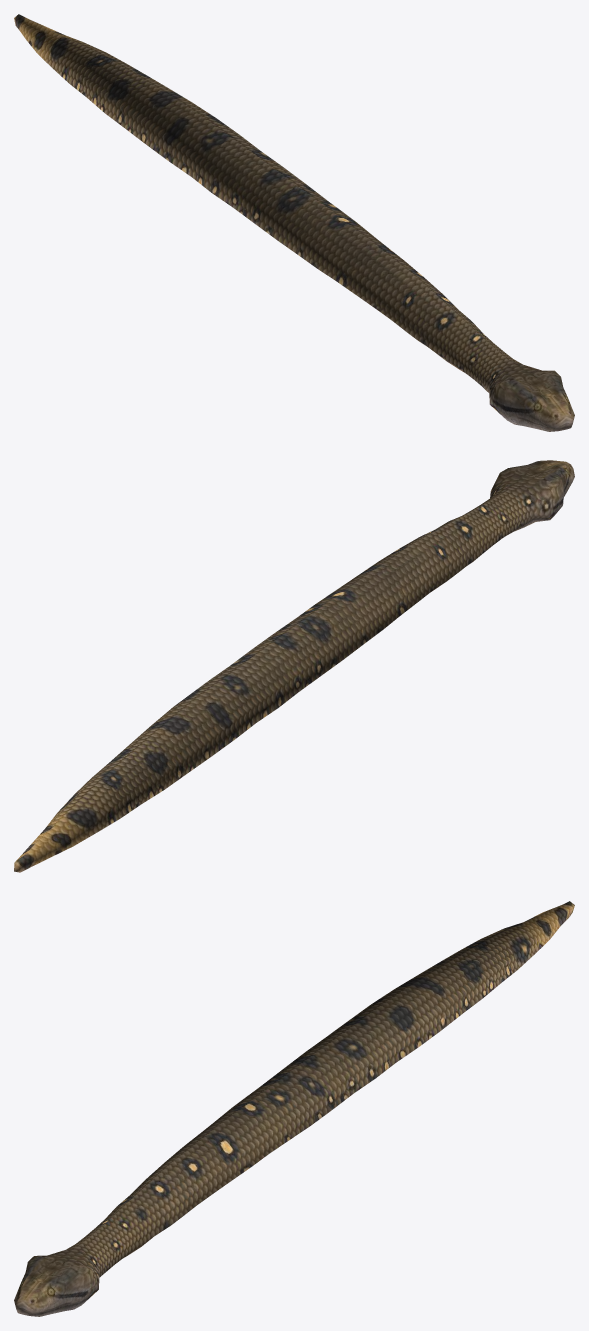
Rendered from 195-anaconda.glb.
3 views of the same model, one above another, from view 1: azimuth 30°, elevation 25°; view 2: azimuth 150°, elevation 25°; view 3: azimuth 330°, elevation 25° (orthographic).
Bounding box in the file's own units: 0.322 × 0.2853 × 4.69.
1 material, 1 textured.
